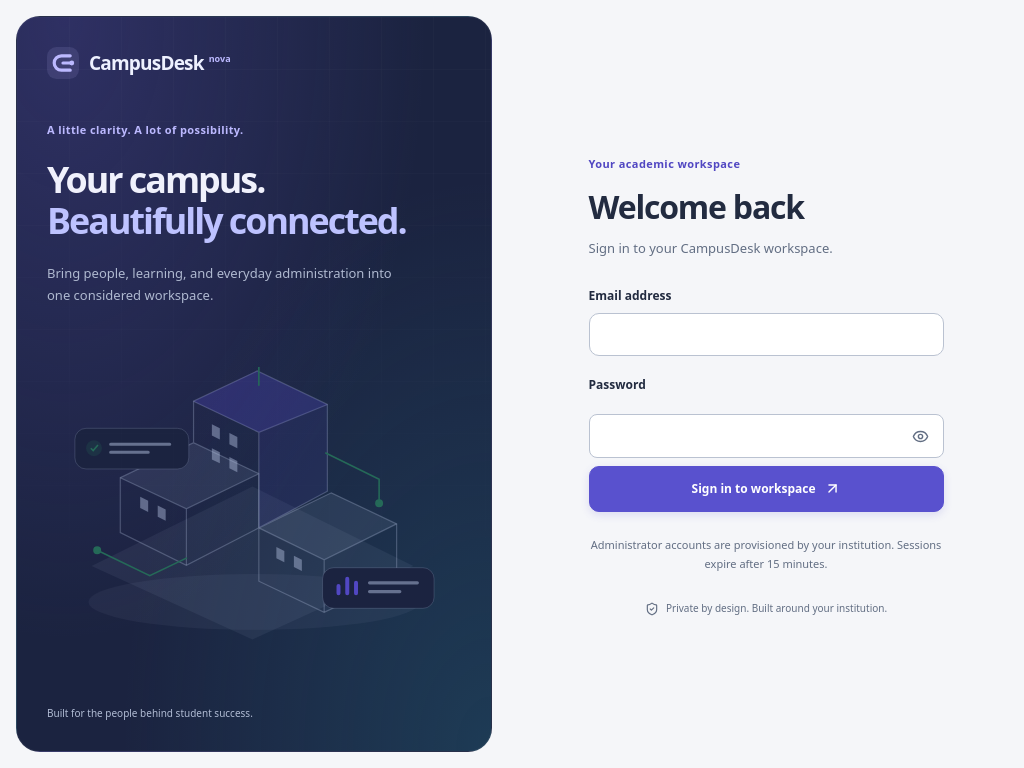
Test: Administrator login › provides labeled credentials and accessible error feedback
Type "admin@example.test" into the field labelled "Email address" at (766, 335), box [589,313,944,356]
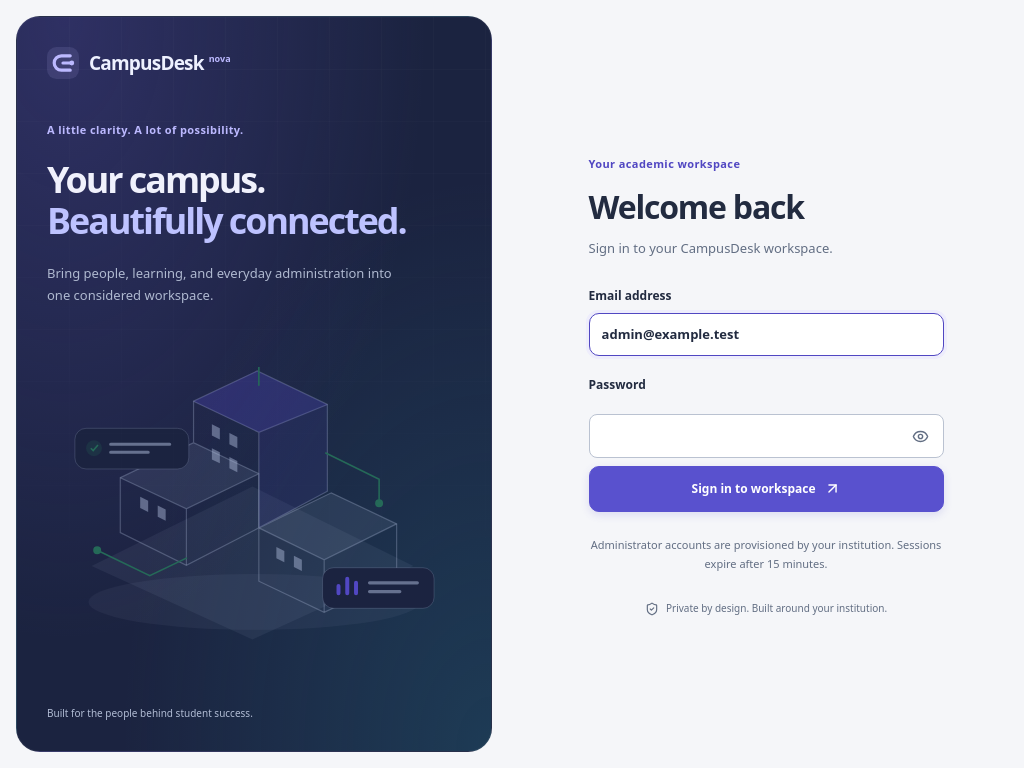
Type "incorrect" into the password field labelled "Password" at (744, 436), box [590,415,898,457]
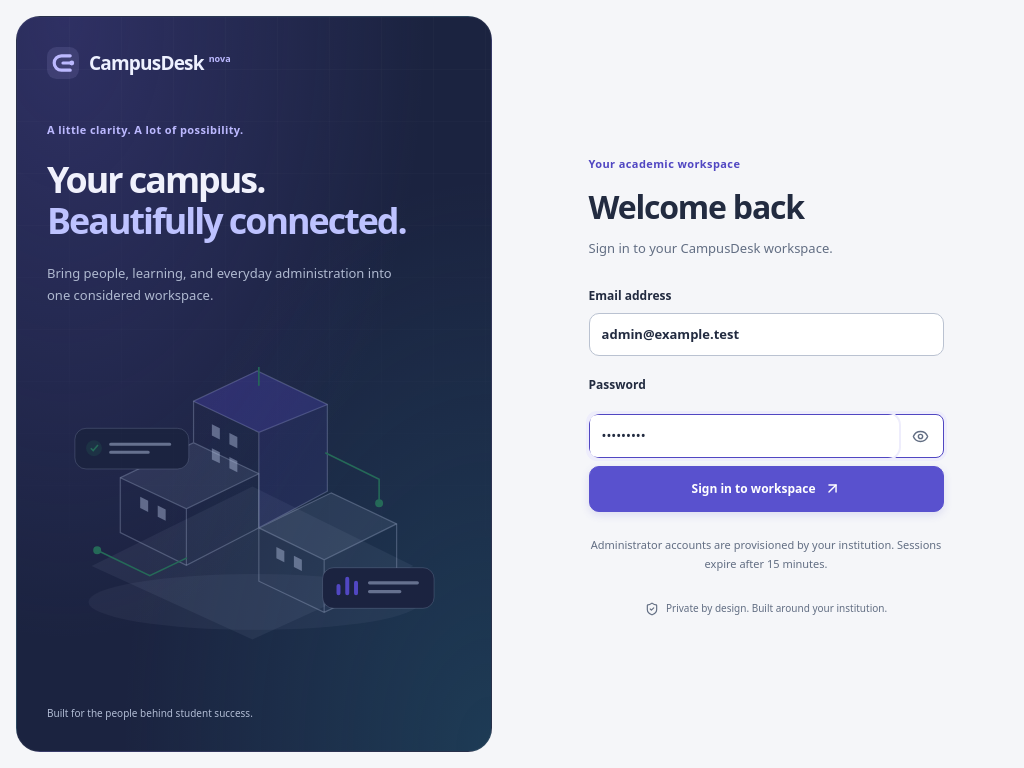
Click the button "Sign in to workspace" at (766, 489), box [589,466,944,512]
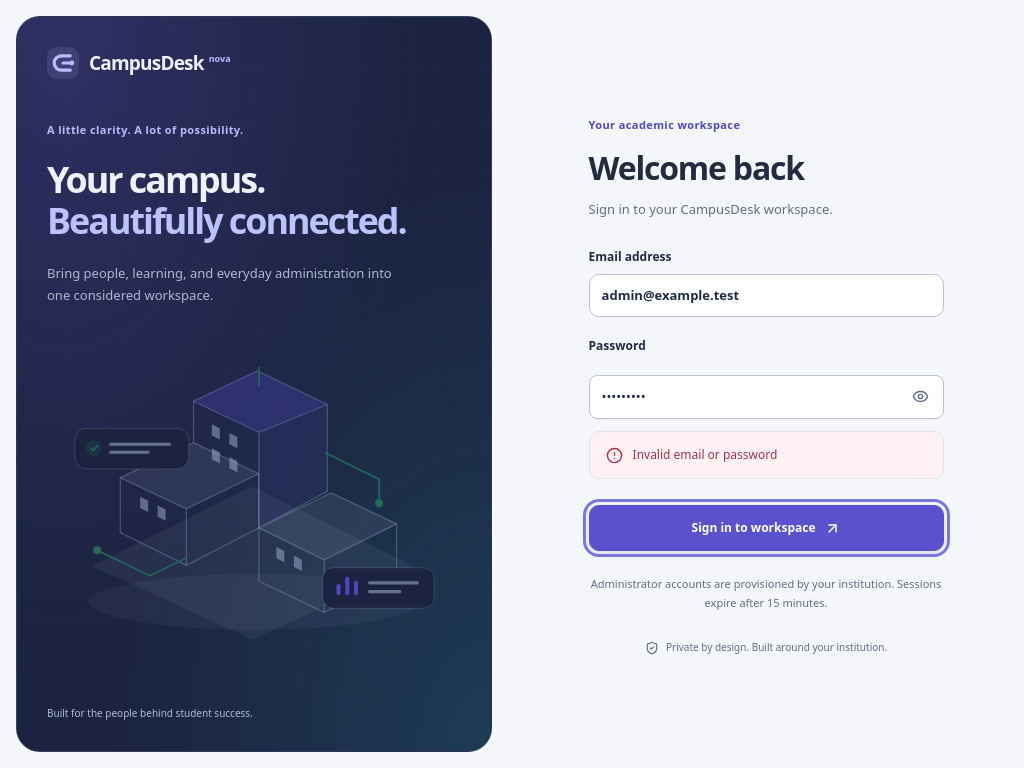
Result: the message reads "Invalid email or password" at [633,446,777,463]
